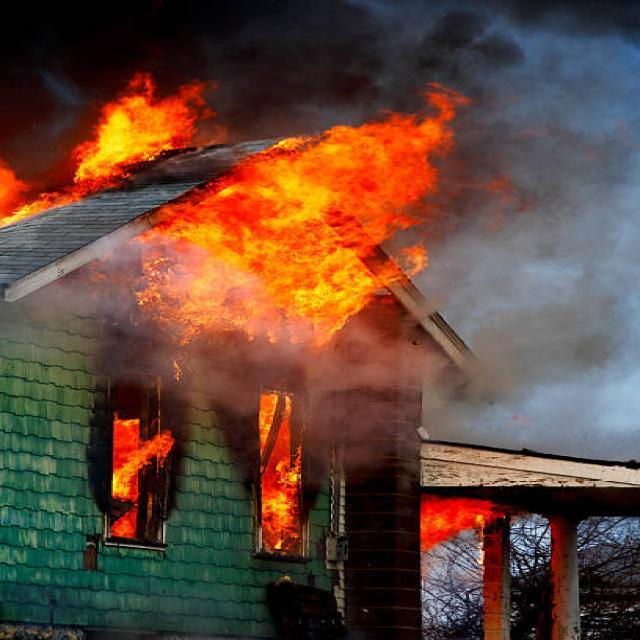Fire: (192, 120, 458, 330), (0, 70, 213, 206), (258, 392, 320, 558), (108, 414, 154, 529), (421, 490, 502, 554)
Smoke: (447, 140, 640, 458), (215, 4, 640, 145), (8, 1, 208, 142)
